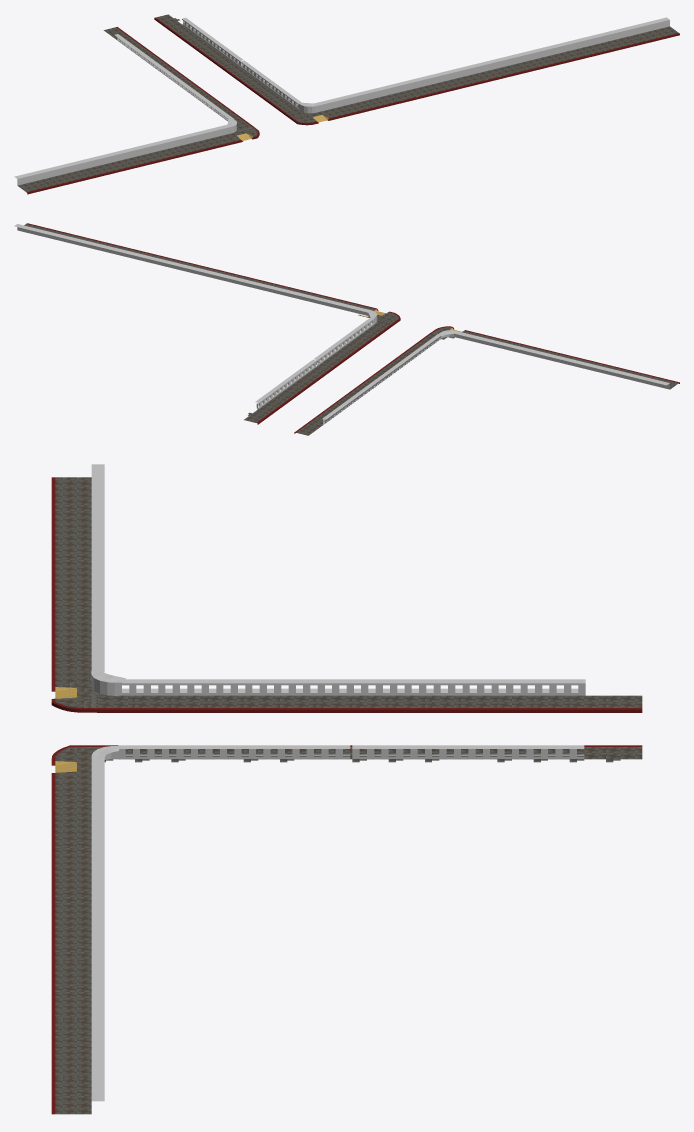
File: SideWalker_Larpida y Cañada.fbx
3 views of the same model, one above another, from view 1: azimuth 30°, elevation 25°; view 2: azimuth 150°, elevation 25°; view 3: azimuth 270°, elevation 25° (orthographic). The views are drawn at different scales.
Visible parts, largest first — view 1: Cañada02, Cañada01; view 2: Cañada02, Cañada01; view 3: Cañada01, Cañada02.
Part boxes in pixels (box(x1,y1,x2,y2)): Cañada02: box(154, 14, 679, 125); Cañada01: box(14, 27, 259, 194); Cañada02: box(14, 223, 400, 424); Cañada01: box(294, 326, 679, 435); Cañada01: box(51, 464, 642, 712); Cañada02: box(51, 745, 642, 1114).
Bounding box in the file's own units: 208 × 2.58 × 81.51.
